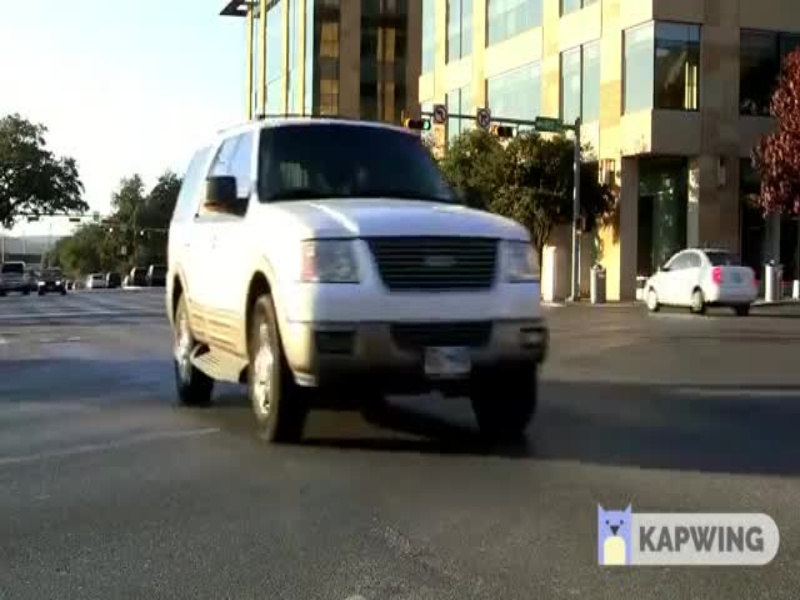car: (131, 108, 567, 463), (628, 243, 762, 320)
